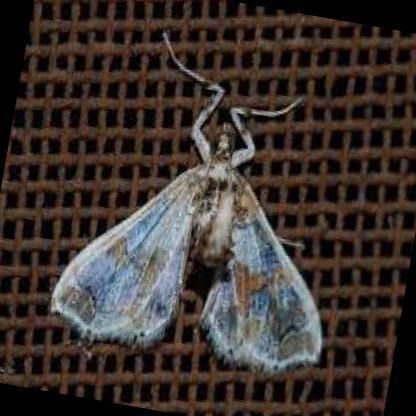leucinodes: (50, 124, 319, 369)
